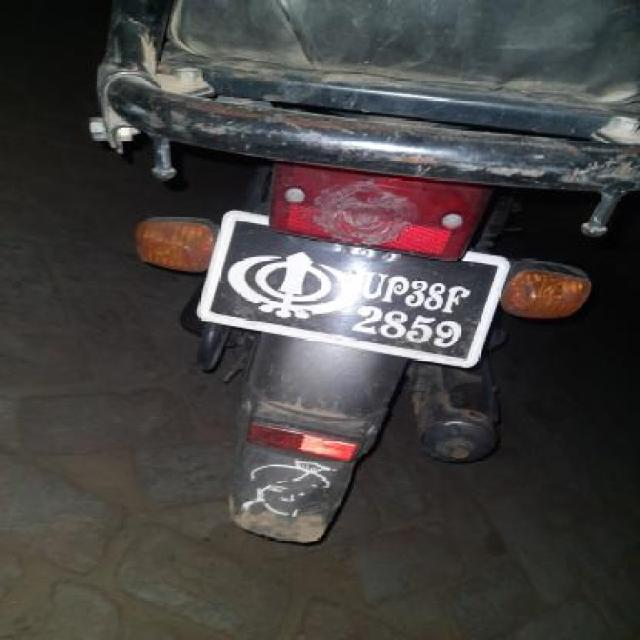Number_Plate_Detected: (196, 209, 508, 371)
